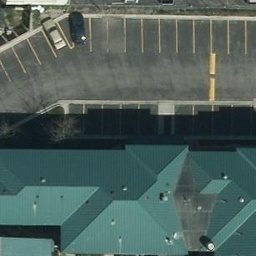car: (40, 19, 66, 49), (69, 12, 87, 47)
